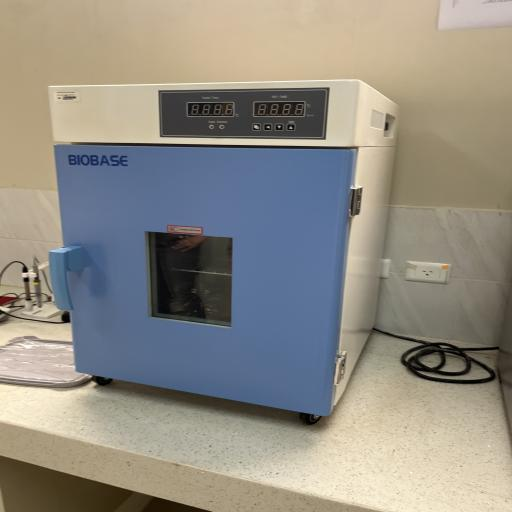Horno_Secado_Biobase: (38, 73, 412, 438)
